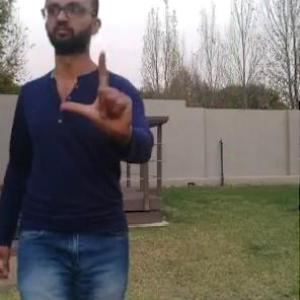land_hand: (56, 43, 138, 142)
